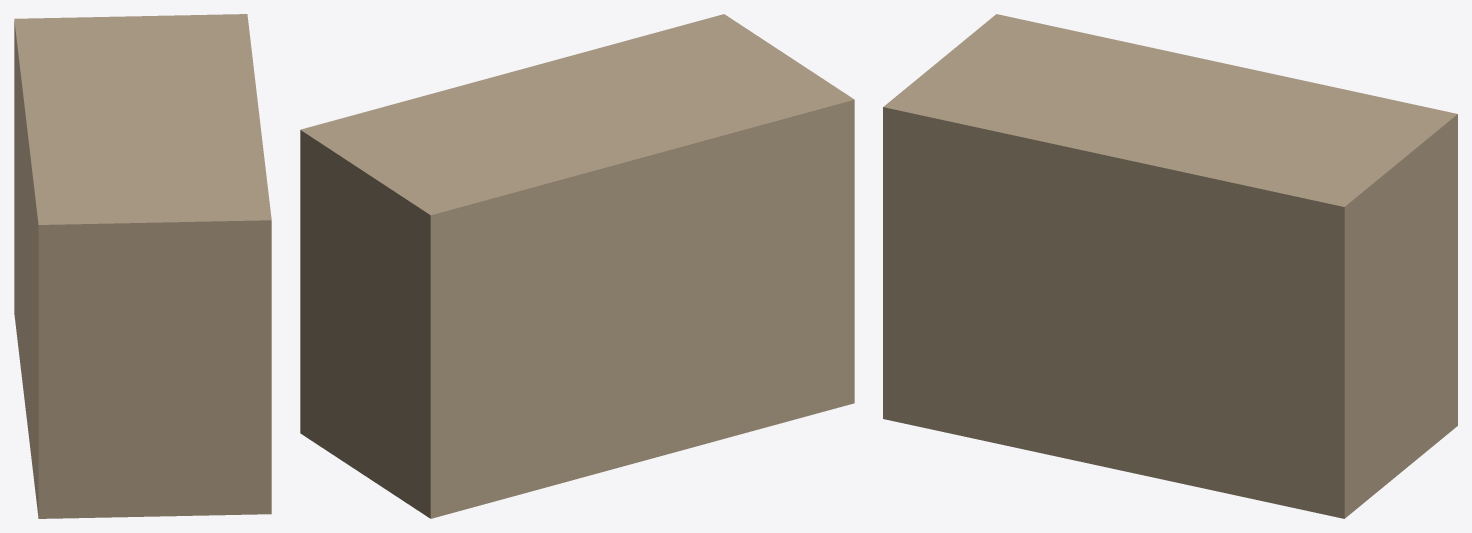
The model's file is bld_99020536.dae.
3 renders of one model, left to right at view 1: azimuth 30°, elevation 25°; view 2: azimuth 150°, elevation 25°; view 3: azimuth 270°, elevation 25°, orthographic. The views are drawn at different scales.
Parts seen in each view (by area): view 1: bld_99020536; view 2: bld_99020536; view 3: bld_99020536.
Boxes of the visible parts, box(x1,y1,x2,y2) form: bld_99020536: box(14, 14, 271, 518); bld_99020536: box(300, 14, 854, 518); bld_99020536: box(883, 14, 1457, 518).
Size of the model in its own units: 10.62 by 13.36 by 8.
